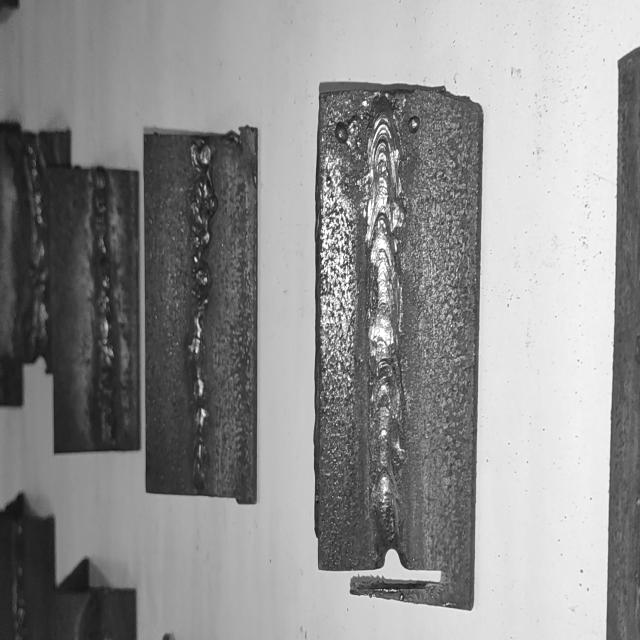Bad Weld: (186, 148, 208, 496), (88, 174, 115, 436)
Defect: (180, 157, 214, 314), (181, 320, 212, 488), (82, 237, 121, 316), (8, 524, 28, 640)
Good Weld: (368, 114, 403, 535), (23, 145, 52, 362)
